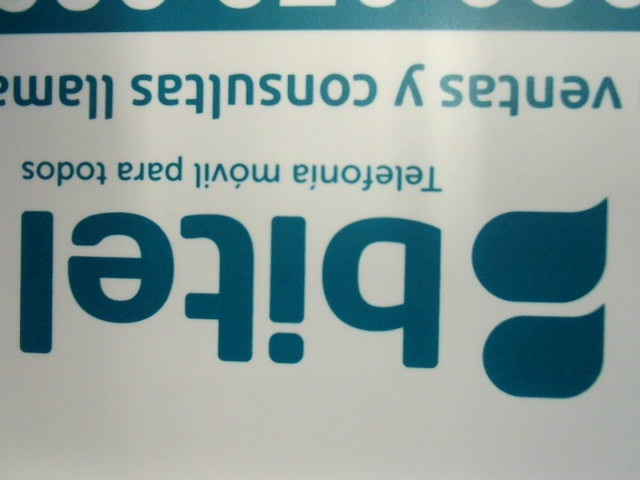BE_bitel: (12, 196, 616, 400)
